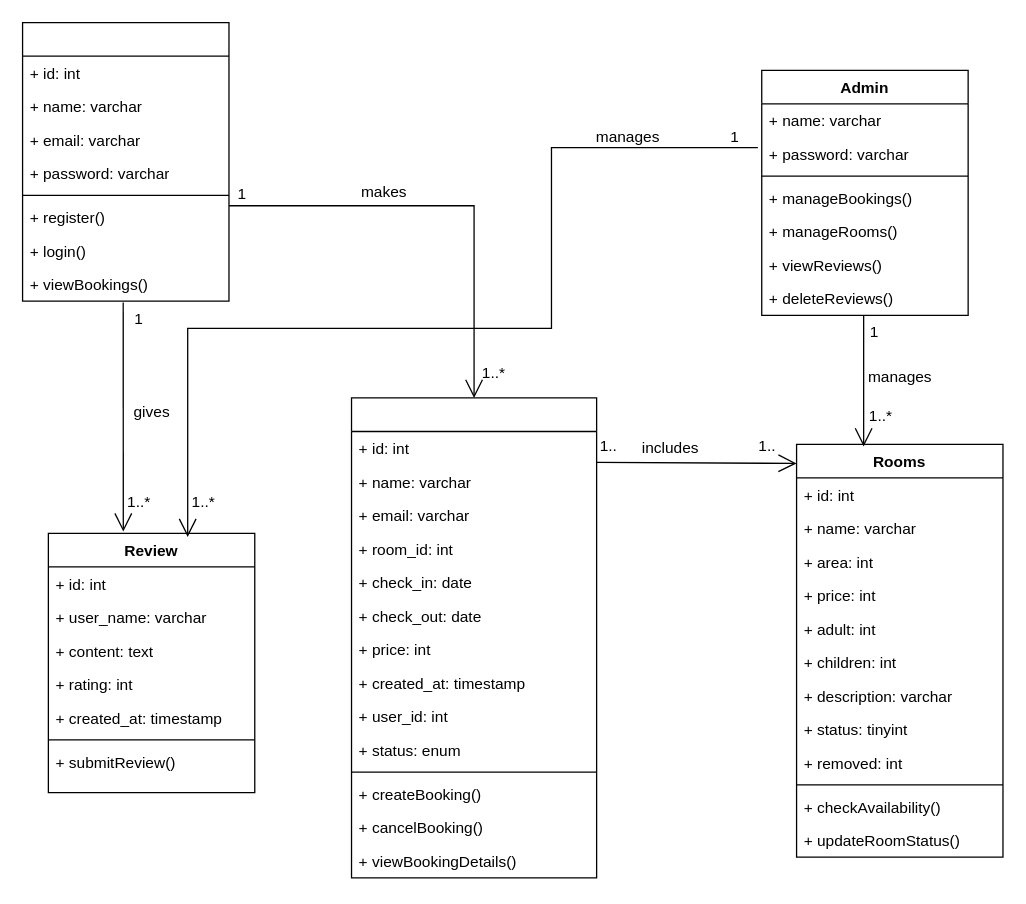
Image size: 1026x904. Some labels were removed from this diagram. Here are the shapes that lost their labels. From the top down, the box of each, then its label:
(21, 21, 229, 301): Customer
(350, 397, 597, 878): Bookings
